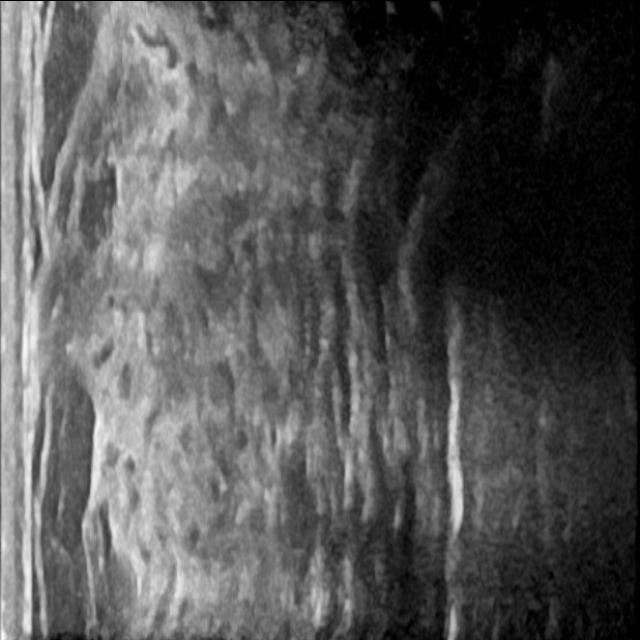Normal: (13, 20, 622, 614)
